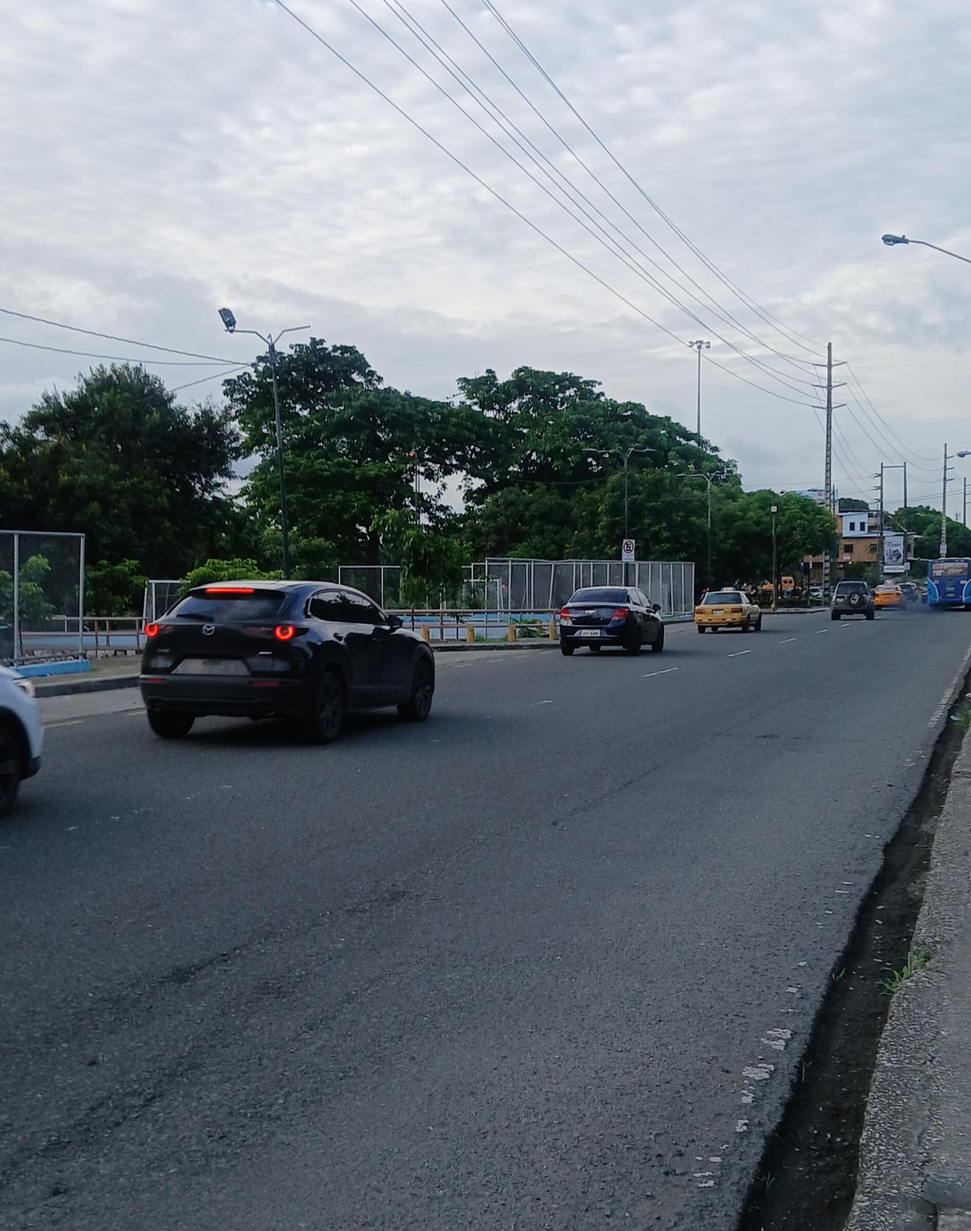license_plate: (174, 658, 243, 675), (575, 627, 601, 635), (945, 592, 957, 599)
